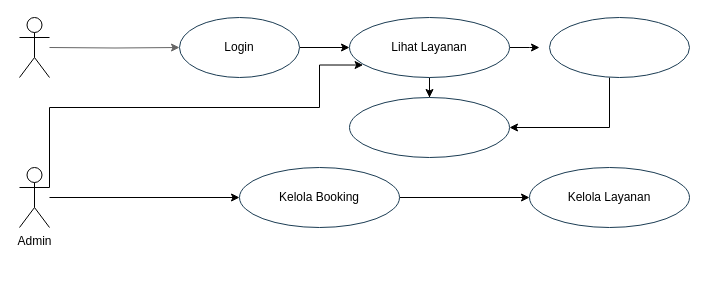
The diagram is 707 pixels wide and 281 high, and some of its shapes have lost their labels. Each missing label, with the box of its shape:
Booking Servis: (348, 96, 510, 158)
Tukar Poin: (548, 16, 690, 78)
user: (18, 16, 50, 78)
